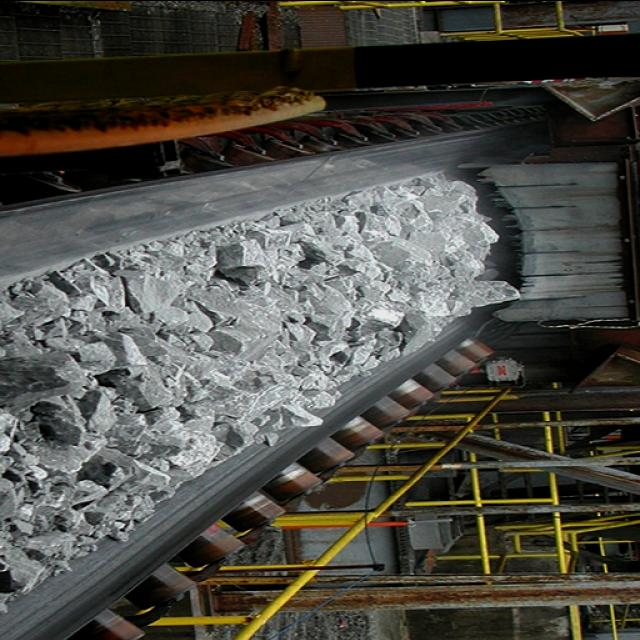conveyor: (0, 167, 499, 640)
